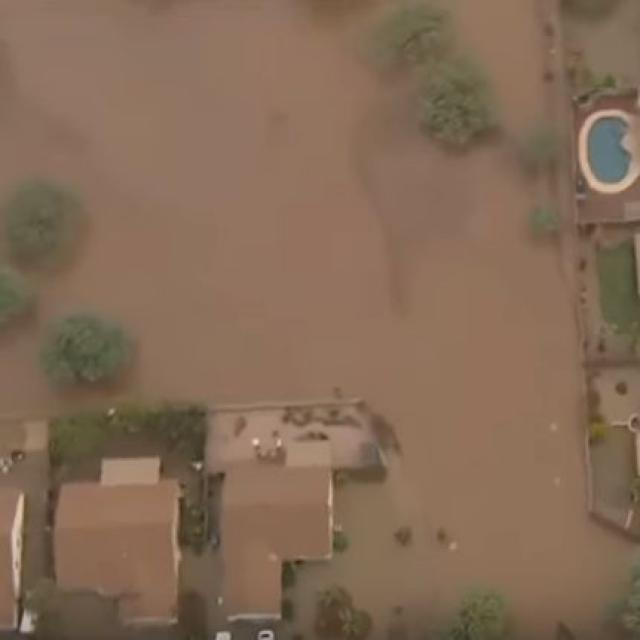flooded_areas: (0, 4, 560, 638)
